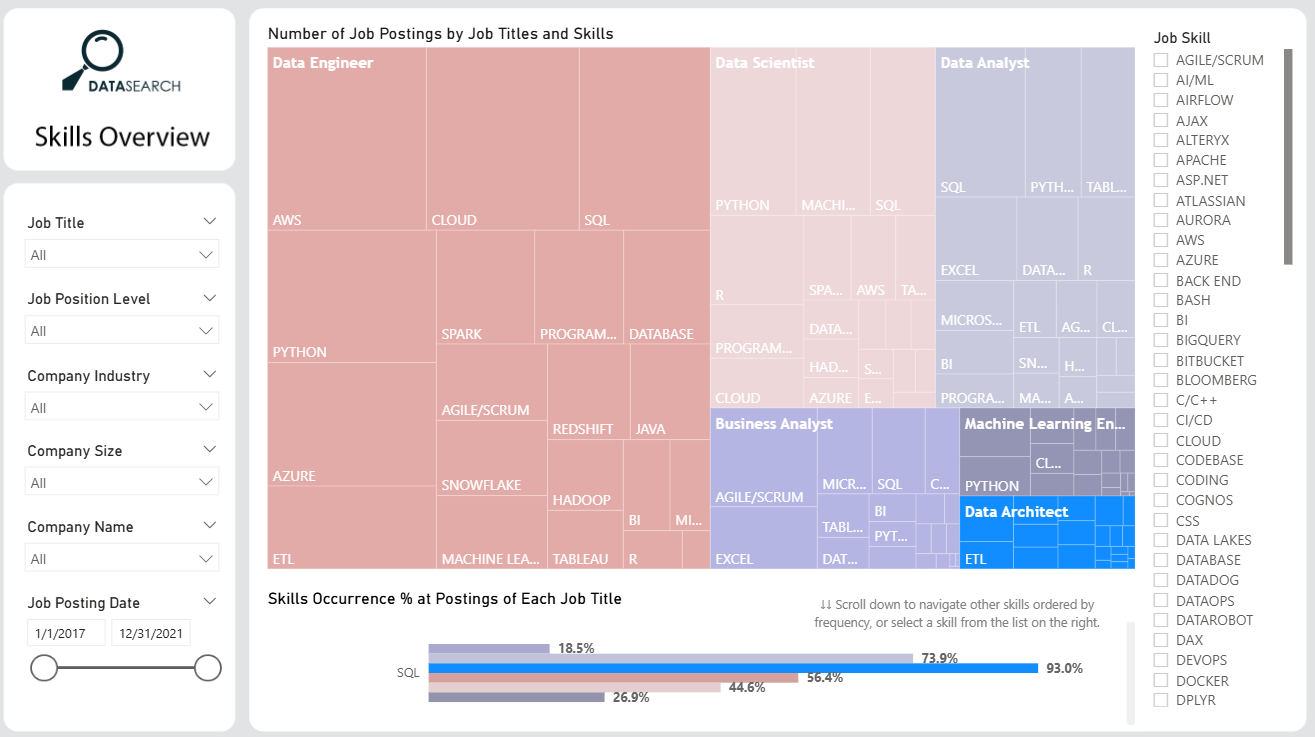

Layout of this report page (visuals, bound fields, positions):
{"tool":"powerbi","page":{"name":"SKILLS-Dashboard","canvas":[1280,720],"ordinal":3},"visuals":[{"type":"image","box":[0,0,1280,719.8],"z":0},{"type":"slicer","fields":{"Values":["Job Postings.Job Title"]},"box":[31.7,207.8,205.1,72.9],"z":1000},{"type":"slicer","fields":{"Values":["Job Postings.Job Position Level"]},"box":[31.7,280.8,205.1,71.6],"z":2000},{"type":"slicer","fields":{"Values":["Job Postings.Company Name"]},"box":[31.7,496.9,205.1,71.6],"z":3000},{"type":"slicer","fields":{"Values":["Job Postings.Company Size"]},"box":[31.7,423.9,205.1,72.9],"z":4000},{"type":"slicer","fields":{"Values":["Job Postings.Company Industry"]},"box":[31.7,352.3,205.1,71.6],"z":5000},{"type":"slicer","fields":{"Values":["Job Postings.Job Posting Date"]},"box":[31.7,568.4,205.1,151.4],"z":6000},{"type":"clusteredBarChart","title":"Skills Occurrence % at Postings of Each Job Title ","fields":{"Category":["Job Skills.Job Skills"],"Y":["_Measures.% Skill in Posting"],"Series":["Job Postings.Job Title"]},"box":[268.4,568.4,834.1,134.9],"z":7000},{"type":"treemap","title":"Number of Job Postings by Job Titles and Skills","fields":{"Group":["Job Postings.Job Title"],"Values":["CountNonNull(Job Skills.Job Skills)"],"Details":["Job Skills.Job Skills"]},"box":[268.4,31.7,834.1,523],"z":8000},{"type":"slicer","fields":{"Values":["Job Skills.Job Skills"]},"box":[1102.5,31.7,150,653.8],"z":9000},{"type":"textbox","box":[774.9,568.4,305.5,50.9],"z":10000},{"type":"shape","box":[61.5,23.9,150.4,90.6],"z":11000}]}

Visuals, with their boxes in screenshot pixels (x1, y1, x2, y2), scaled from the page's 1280x720 canvas onto the 1315x737 screenshot:
image: bbox(0, 0, 1314, 736)
slicer - Job Postings.Job Title: bbox(33, 213, 243, 287)
slicer - Job Postings.Job Position Level: bbox(33, 287, 243, 361)
slicer - Job Postings.Company Name: bbox(33, 509, 243, 582)
slicer - Job Postings.Company Size: bbox(33, 434, 243, 509)
slicer - Job Postings.Company Industry: bbox(33, 361, 243, 434)
slicer - Job Postings.Job Posting Date: bbox(33, 582, 243, 736)
"Skills Occurrence % at Postings of Each Job Title " clusteredBarChart: bbox(276, 582, 1133, 720)
"Number of Job Postings by Job Titles and Skills" treemap: bbox(276, 32, 1133, 568)
slicer - Job Skills.Job Skills: bbox(1133, 32, 1287, 702)
textbox: bbox(796, 582, 1110, 634)
shape: bbox(63, 24, 218, 117)
